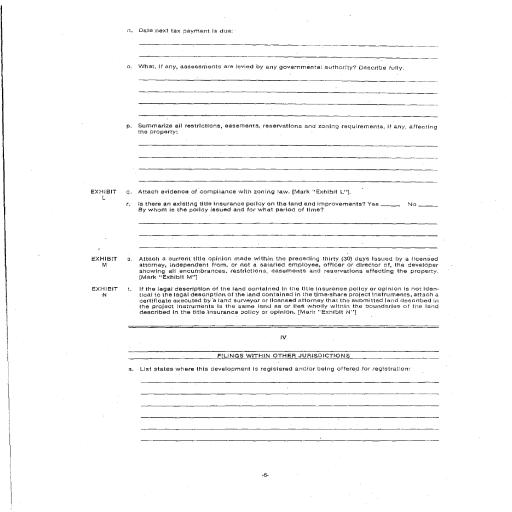free_text: (136, 62, 404, 73), (136, 23, 240, 39)
